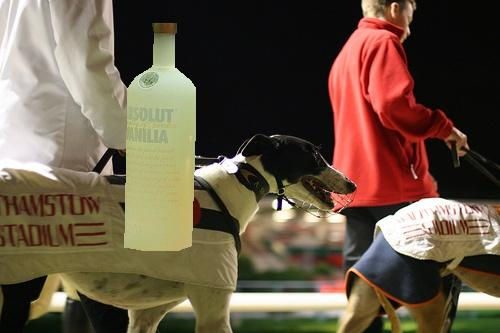tampered: (125, 24, 196, 251)
